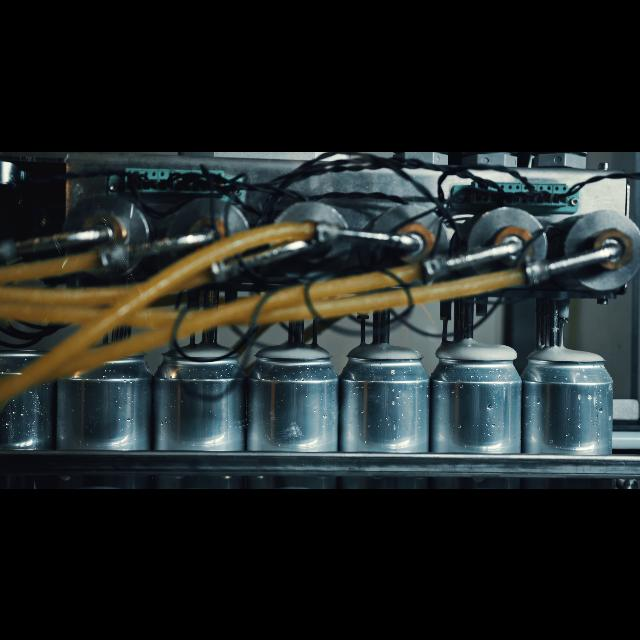empty: (60, 344, 152, 488), (4, 344, 54, 488)
full: (156, 336, 248, 488), (432, 334, 520, 488), (528, 338, 614, 488), (253, 339, 337, 488), (343, 339, 423, 488)
